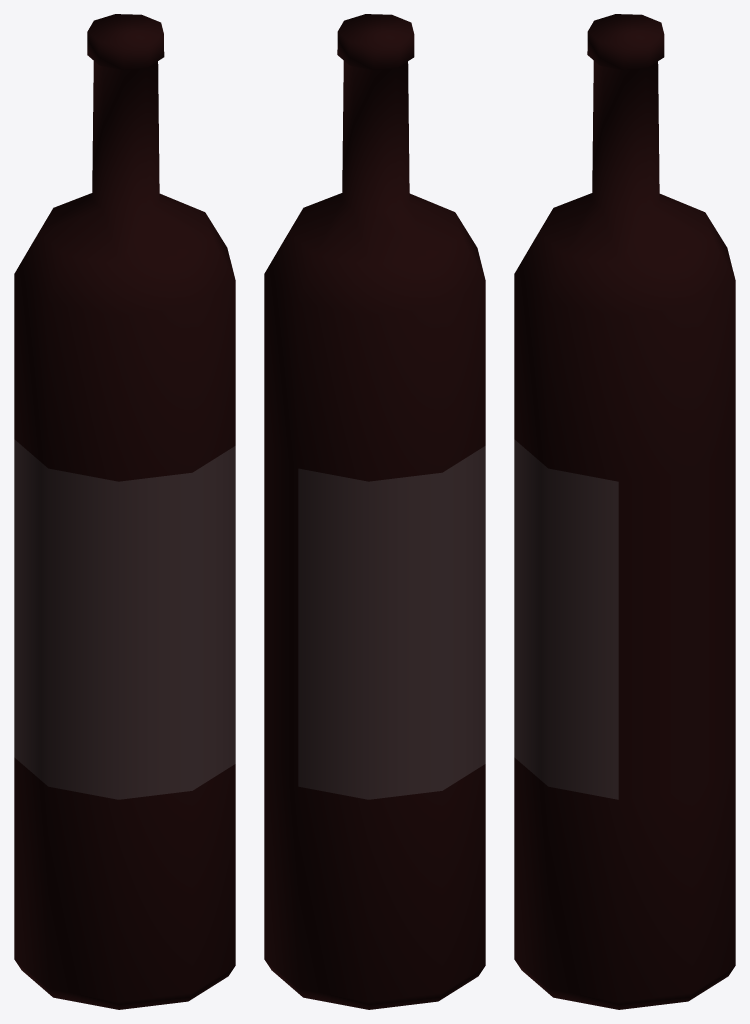
File: Bottle.fbx
The picture shows the model from 3 angles, left to right: view 1: azimuth 30°, elevation 25°; view 2: azimuth 150°, elevation 25°; view 3: azimuth 270°, elevation 25°; orthographic projection.
Visible parts, largest first — view 1: Object001.006; view 2: Object001.006; view 3: Object001.006.
Part boxes in pixels (<box>): Object001.006: <box>14,14,235,1009</box>; Object001.006: <box>264,14,485,1009</box>; Object001.006: <box>514,14,735,1009</box>.
Size of the model in its own units: 0.0973 by 0.0976 by 0.456.
